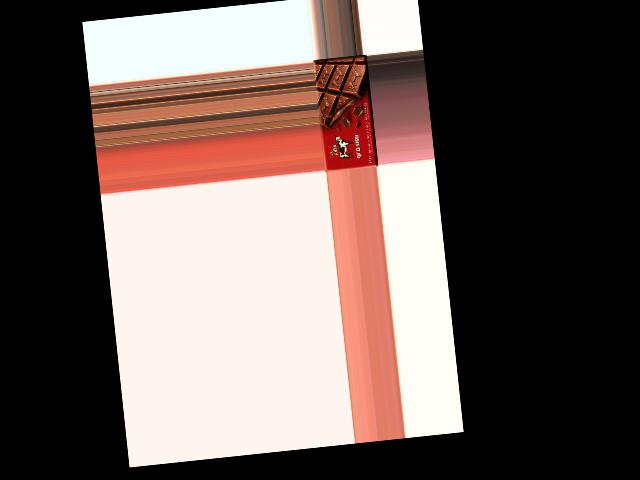chocolate: (313, 56, 377, 172)
